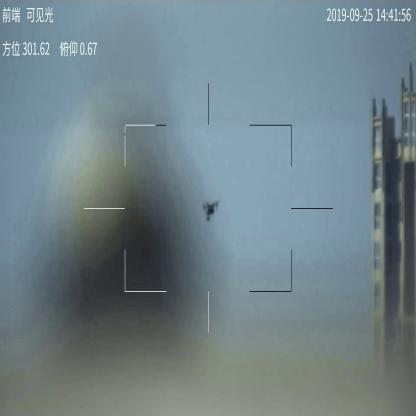uav: (202, 198, 220, 220)
